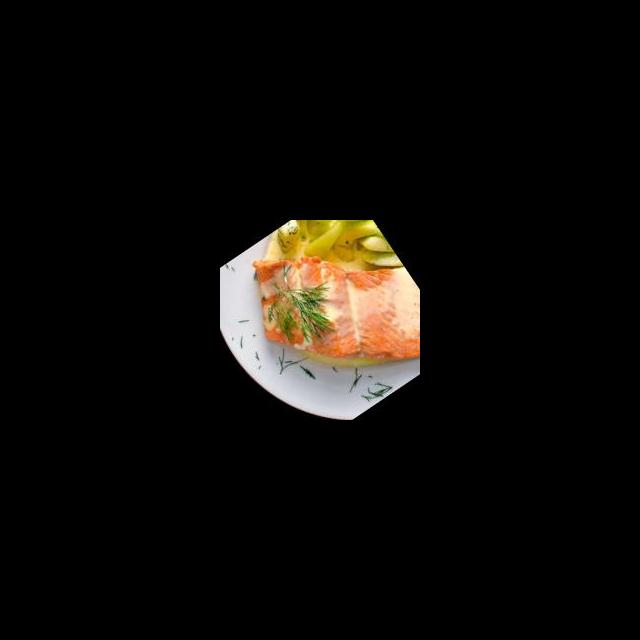ca hoi: (224, 220, 420, 420)
